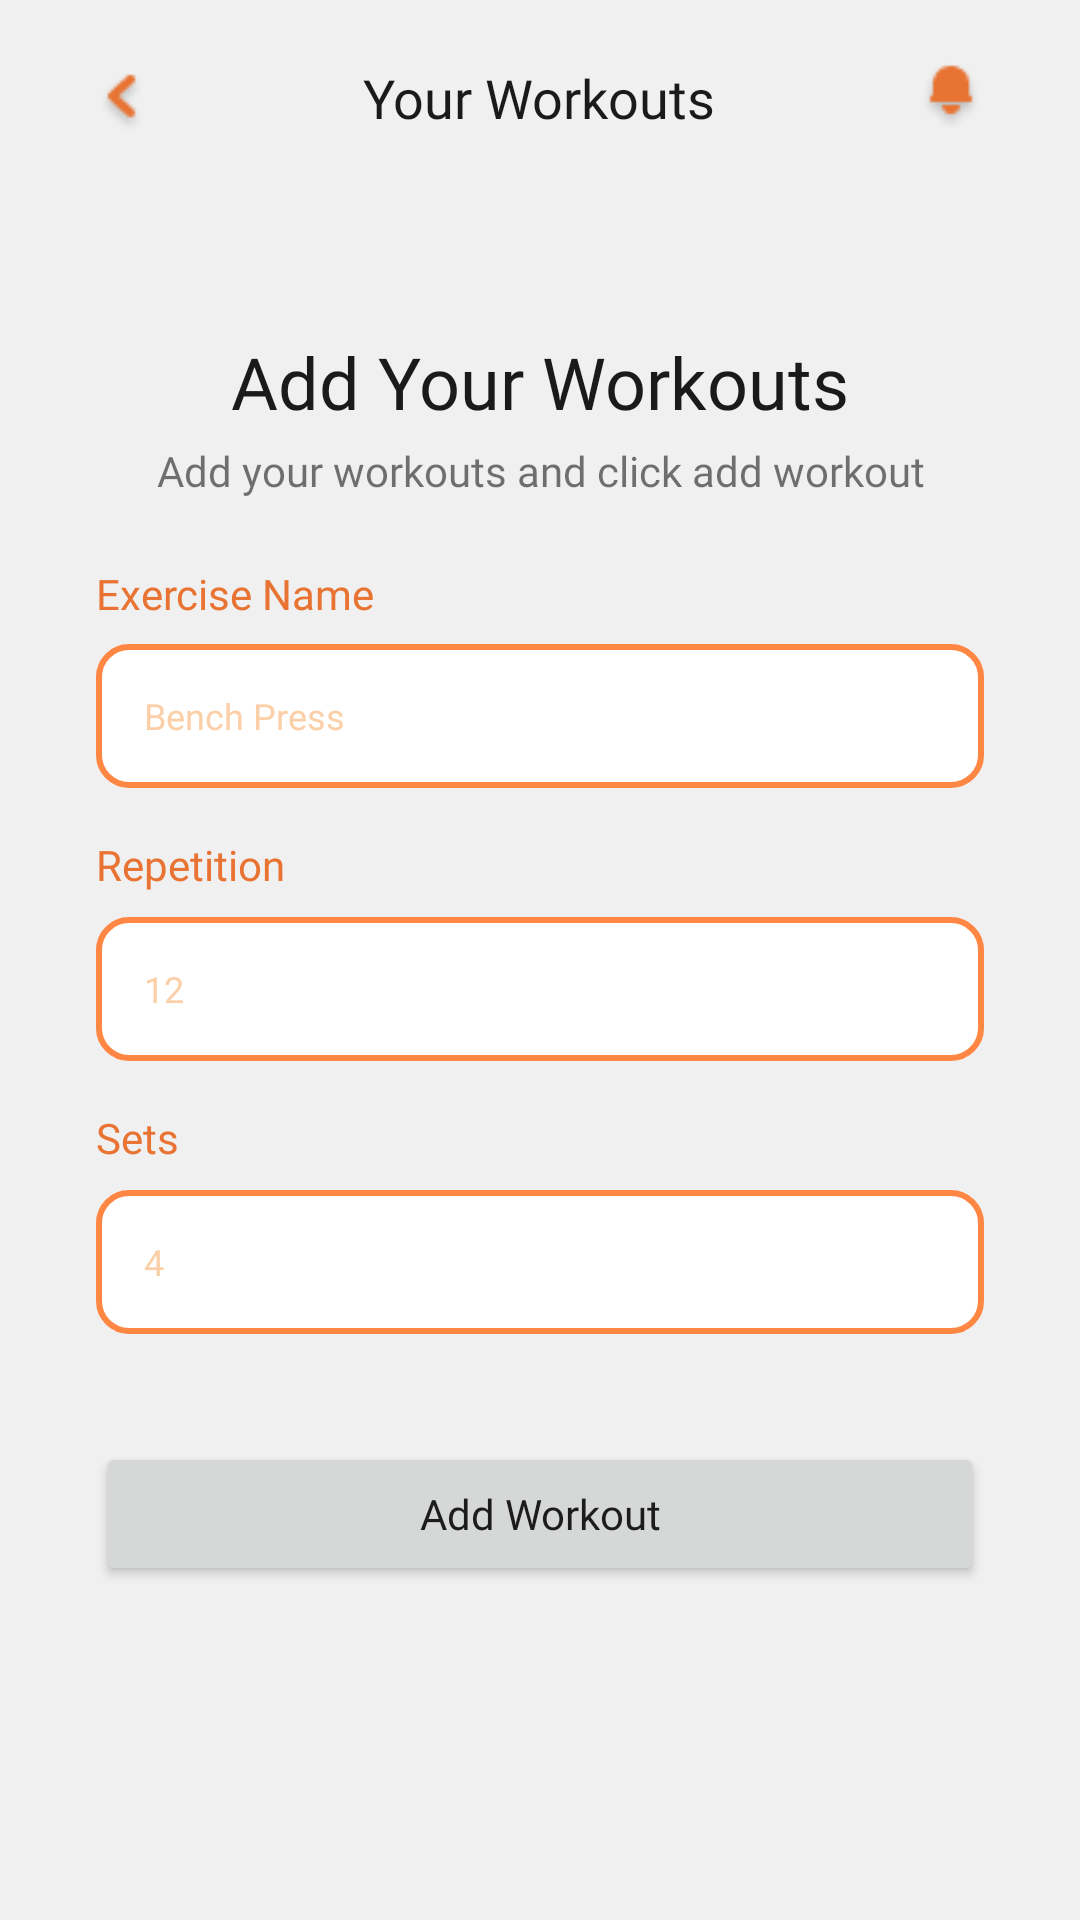

Locate icon controls on the screen. Image size 1080px×1920px, boxes as bbox=[x1, y1, x2, y2].
Back: bbox=[107, 74, 136, 120]
Notify: bbox=[929, 65, 973, 118]
